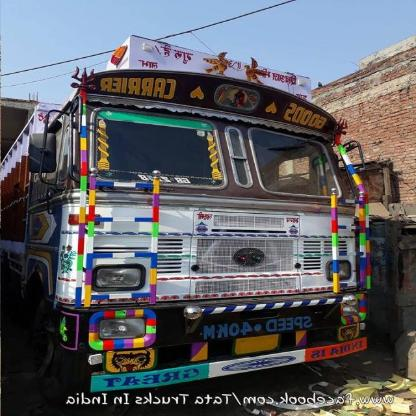truck: (11, 63, 367, 389)
